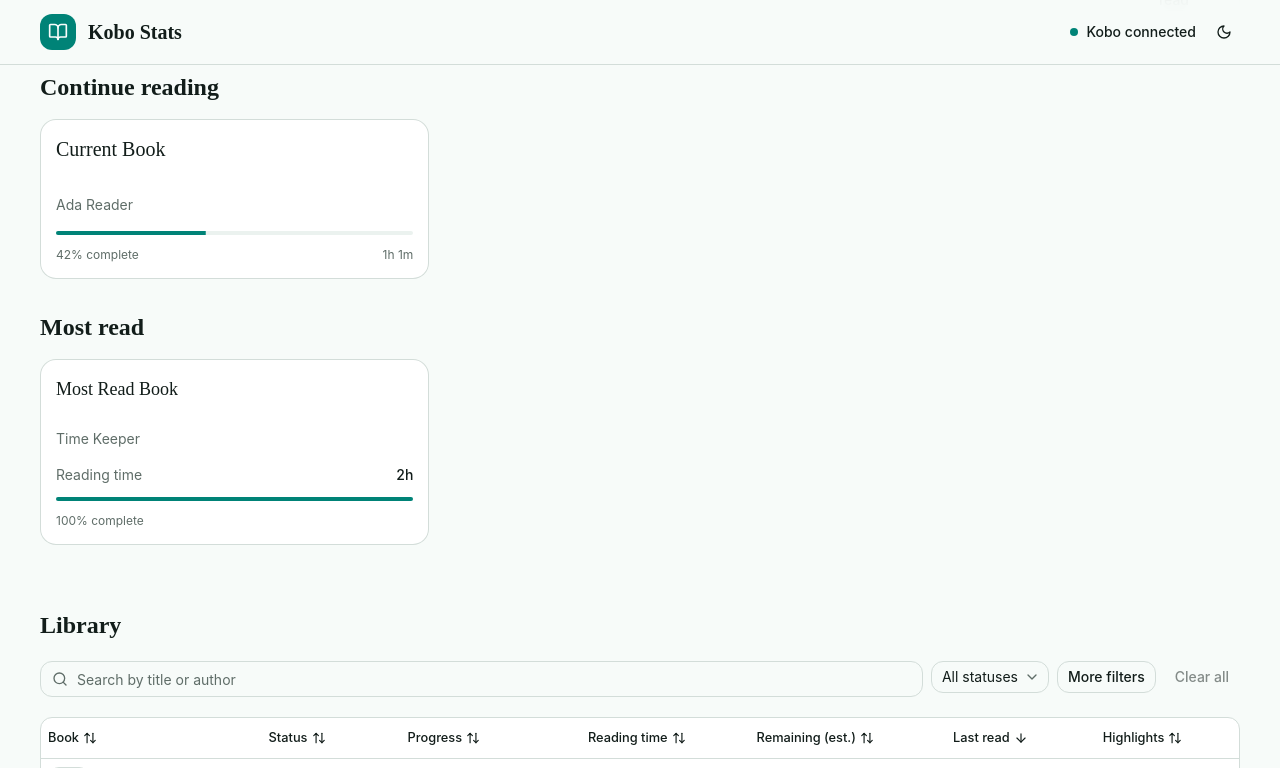
opens book details from the most-read section
(page scrolled)
Click the text "Most Read Book" at (117, 389), box [56,379,178,399]
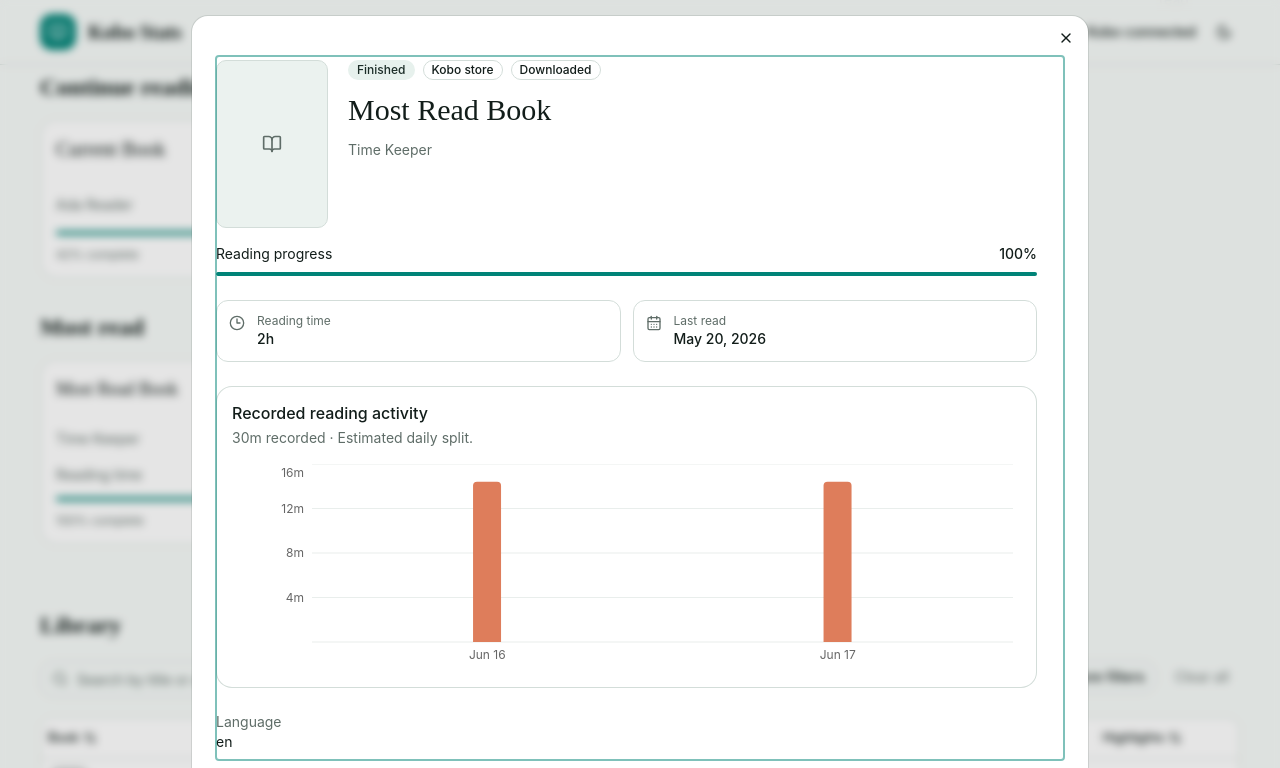
Expected: the heading "Most Read Book" is shown, [348,93,551,126]
Expected: the text "Reading progress" is shown, [216,244,332,264]
Expected: the text "100%" is shown, [999,244,1037,264]
